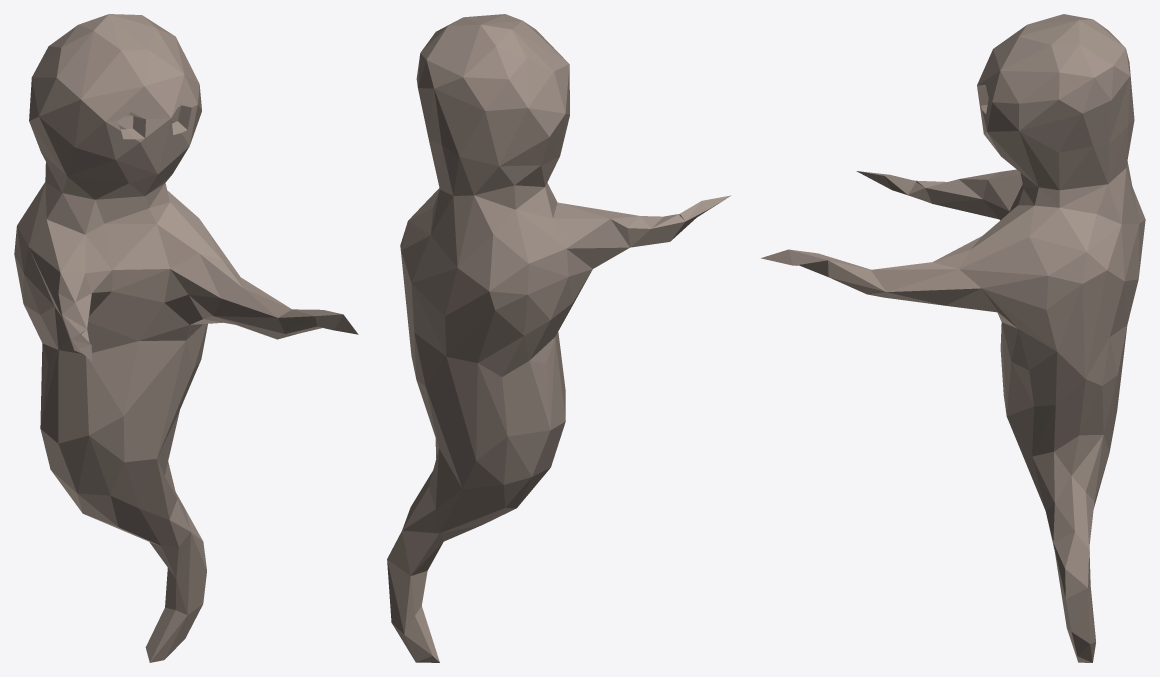
The model's file is LPHorror_Ghost.fbx.
The picture shows the model from 3 angles, left to right: view 1: azimuth 30°, elevation 25°; view 2: azimuth 150°, elevation 25°; view 3: azimuth 270°, elevation 25°; orthographic projection. The views are drawn at different scales.
Visible parts, largest first — view 1: Ghost; view 2: Ghost; view 3: Ghost.
Boxes of the visible parts, left/top/right/bottom form: Ghost: left=14, top=14, right=358, bottom=662; Ghost: left=387, top=14, right=731, bottom=662; Ghost: left=761, top=14, right=1145, bottom=662.
Size of the model in its own units: 60.51 by 168 by 94.82.
